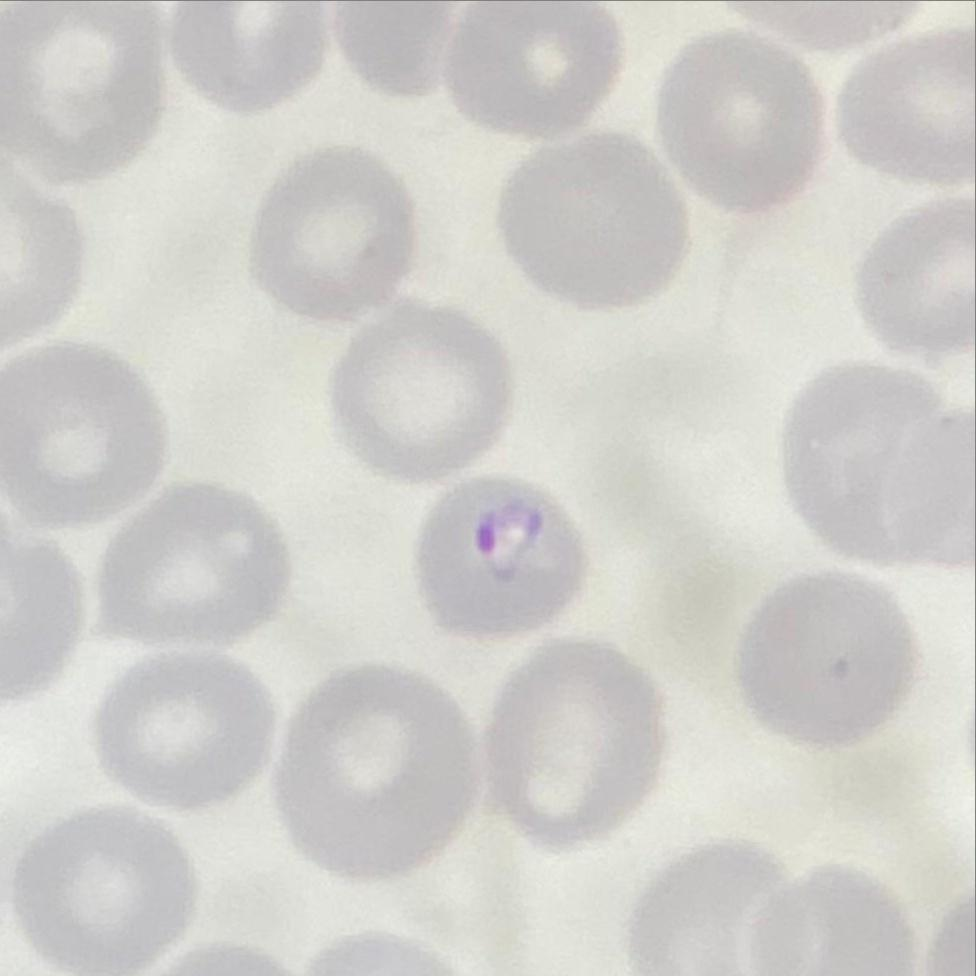Infected: (415, 481, 586, 646)
Uninfected: (272, 666, 479, 882), (483, 641, 661, 853), (787, 356, 954, 568), (98, 483, 288, 656), (335, 298, 516, 478), (740, 573, 921, 750), (500, 138, 686, 308), (655, 33, 826, 213), (10, 806, 191, 976), (0, 348, 171, 526), (0, 0, 165, 183), (253, 141, 416, 324), (95, 653, 274, 815), (437, 1, 624, 144), (633, 838, 816, 976), (843, 33, 976, 191), (858, 191, 976, 363), (755, 861, 921, 976), (173, 0, 326, 119)
